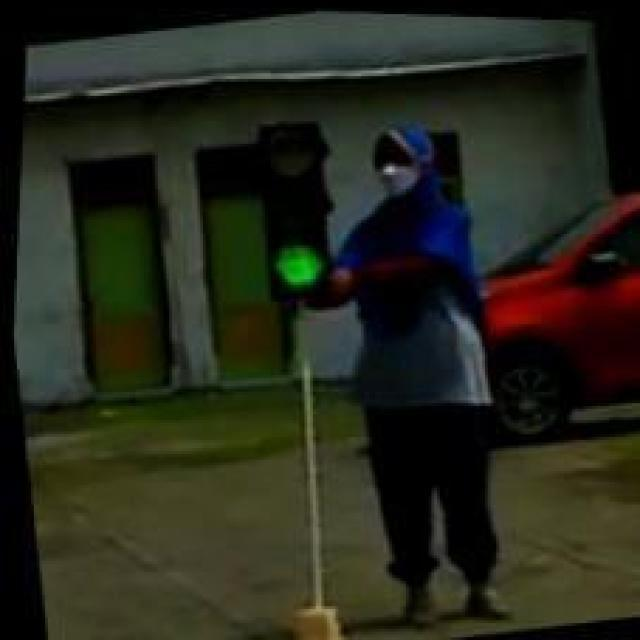Green: (263, 130, 344, 311)
